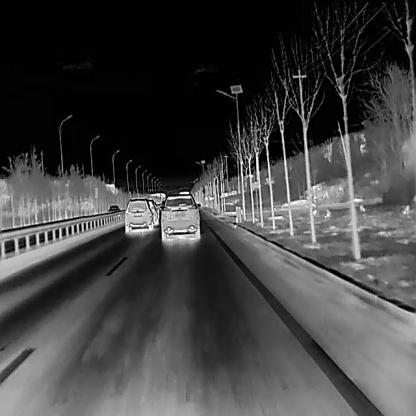car: (158, 193, 200, 243), (124, 197, 152, 234), (146, 199, 159, 226), (105, 205, 120, 219)
